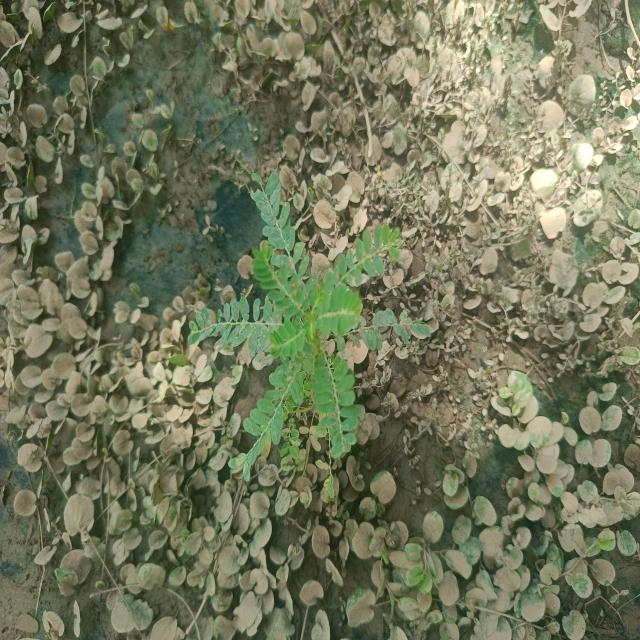weed: (185, 165, 414, 464)
